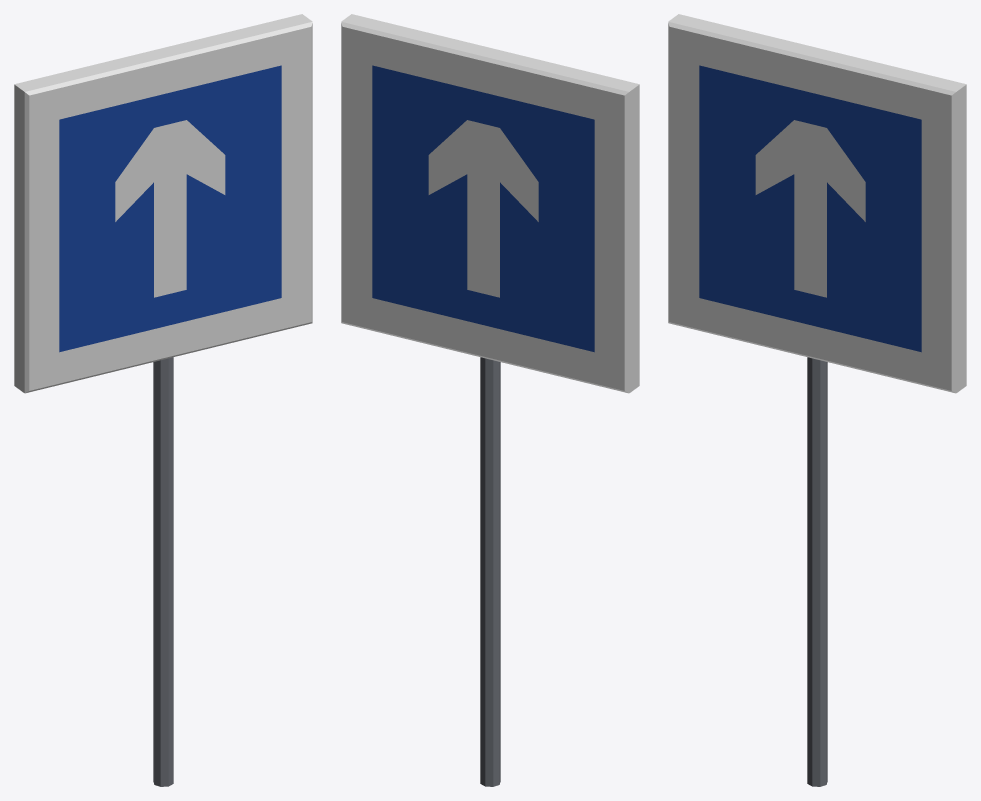
The model's file is roadSignOneWay.fbx.
3 views of the same model, side by side, from view 1: azimuth 30°, elevation 25°; view 2: azimuth 150°, elevation 25°; view 3: azimuth 330°, elevation 25° (orthographic).
Parts seen in each view (by area): view 1: roadSignOneWay; view 2: roadSignOneWay; view 3: roadSignOneWay.
Boxes of the visible parts, box(x1,y1,x2,y2) form: roadSignOneWay: box(14, 14, 312, 786); roadSignOneWay: box(341, 14, 639, 786); roadSignOneWay: box(668, 14, 966, 786).
Size of the model in its own units: 100 by 242 by 8.36.
1 material, 1 textured.
